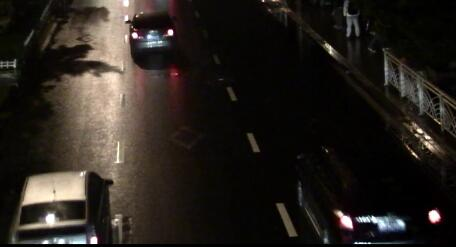car: (290, 128, 446, 245), (12, 166, 114, 245), (124, 8, 182, 58)
